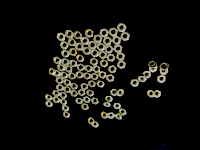nut: (117, 22, 127, 33), (160, 61, 170, 71), (88, 40, 98, 50), (121, 32, 132, 41), (158, 75, 168, 84), (149, 64, 159, 73), (130, 78, 140, 87), (109, 88, 118, 98), (109, 27, 118, 37), (116, 52, 126, 61), (113, 44, 123, 53), (103, 37, 113, 46), (69, 47, 78, 57), (142, 71, 153, 79), (149, 60, 158, 69), (108, 65, 117, 74), (70, 90, 79, 99), (100, 59, 109, 68), (105, 45, 114, 54), (100, 27, 109, 36), (98, 51, 107, 60), (81, 36, 90, 45), (65, 30, 74, 39), (61, 49, 70, 58), (75, 42, 84, 51), (55, 76, 64, 85), (112, 36, 122, 44), (107, 54, 117, 62), (86, 28, 94, 38), (138, 75, 147, 83), (154, 89, 162, 98), (118, 61, 127, 69), (108, 112, 116, 121), (100, 111, 108, 120), (117, 88, 125, 97), (104, 95, 113, 103), (91, 97, 99, 106), (59, 92, 68, 100), (97, 79, 105, 88), (91, 73, 99, 82), (90, 58, 99, 66), (83, 72, 91, 81), (85, 65, 93, 74), (77, 54, 85, 63), (97, 43, 106, 51), (57, 33, 66, 41), (74, 31, 82, 40), (77, 63, 85, 72), (70, 59, 78, 68), (61, 57, 69, 66), (60, 71, 68, 80), (159, 68, 169, 75), (148, 89, 155, 99), (119, 109, 127, 117), (114, 102, 122, 110), (115, 113, 123, 121), (87, 118, 95, 126), (83, 96, 91, 104), (76, 98, 84, 106), (52, 90, 60, 98), (107, 74, 115, 82), (99, 71, 107, 79), (88, 80, 96, 88), (86, 89, 94, 97), (78, 89, 86, 97), (93, 66, 101, 74), (94, 35, 102, 43), (91, 49, 99, 57), (83, 47, 91, 55), (60, 42, 68, 50), (77, 55, 85, 63), (57, 64, 65, 72), (68, 72, 76, 80), (62, 112, 71, 119), (45, 94, 54, 101), (80, 83, 89, 90), (54, 56, 61, 65), (70, 82, 77, 91), (103, 102, 111, 109), (81, 104, 89, 111), (62, 105, 70, 112), (60, 99, 68, 106), (53, 97, 60, 105), (64, 86, 71, 94), (56, 85, 64, 92), (76, 71, 83, 79), (68, 39, 76, 46), (66, 65, 73, 73), (49, 67, 55, 76), (92, 121, 99, 128), (46, 101, 53, 108), (54, 70, 61, 77), (64, 79, 71, 86), (103, 102, 111, 108)
